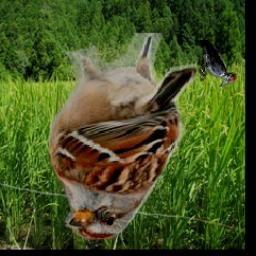Sparrow: (46, 33, 197, 240)
Woodpecker: (200, 40, 236, 87)
